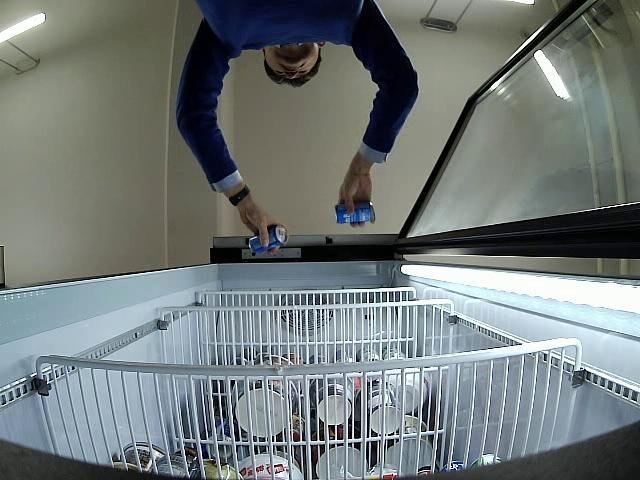15_letsbe: (248, 224, 288, 255), (334, 205, 375, 224)
